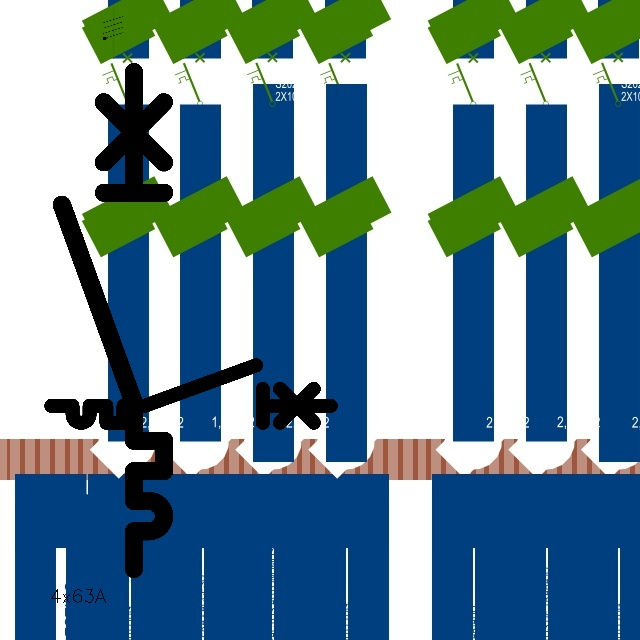interruptor_termomagnetico: (49, 59, 177, 582), (44, 358, 337, 430)
